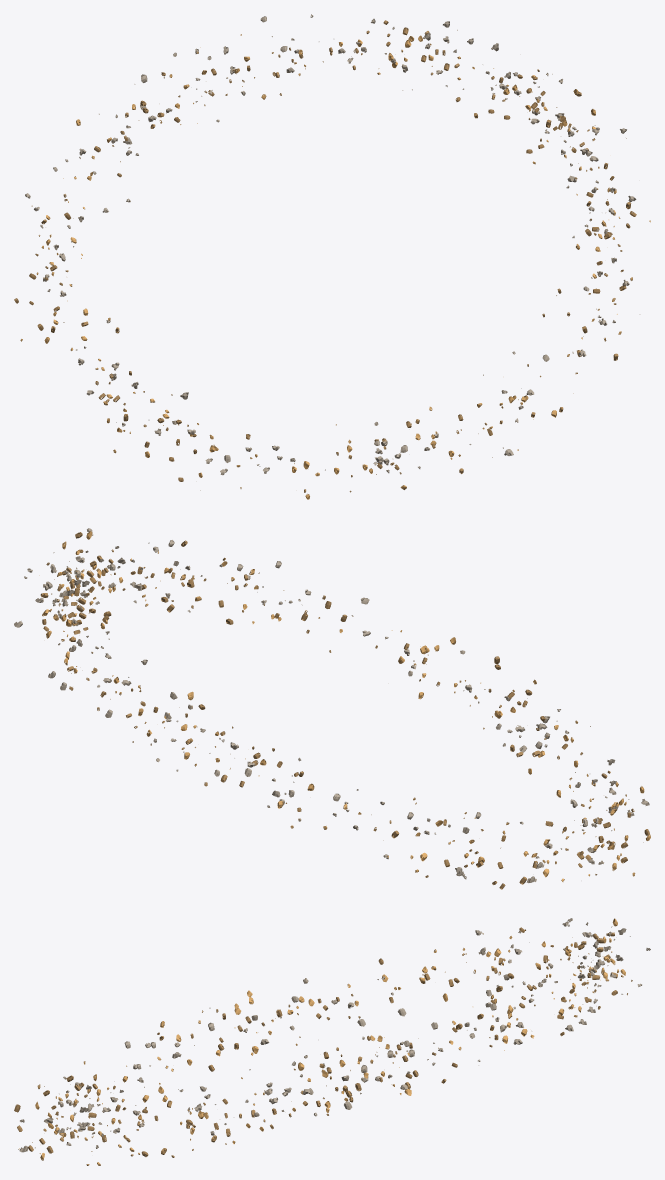
Rendered from rocks.glb.
3 views of the same model, one above another, from view 1: azimuth 30°, elevation 25°; view 2: azimuth 150°, elevation 25°; view 3: azimuth 270°, elevation 25° (orthographic). The views are drawn at different scales.
Parts seen in each view (by area): view 1: planet.003; view 2: planet.003; view 3: planet.003.
Boxes of the visible parts, x1,y1,x2,y2 form: planet.003: [14, 14, 650, 499]; planet.003: [14, 528, 650, 889]; planet.003: [14, 918, 650, 1165].
Bounding box in the file's own units: 30.55 × 14.64 × 31.37.
1 material, 1 textured.
